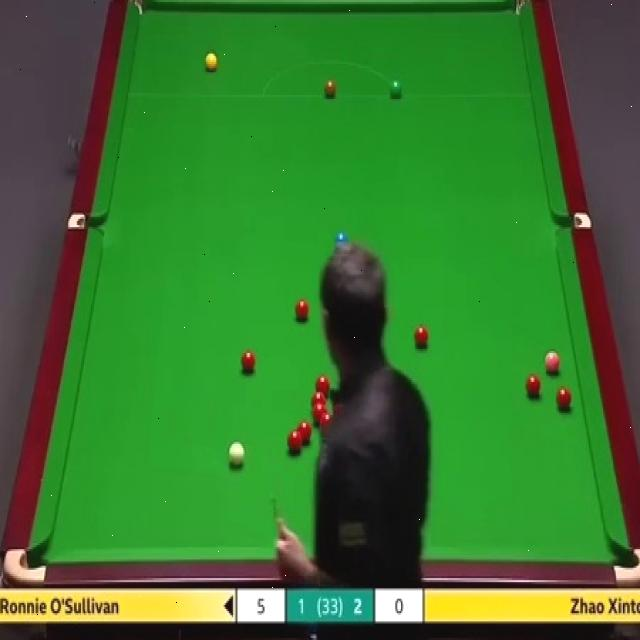blue-ball: (335, 231, 348, 253)
brown-ball: (323, 79, 336, 99)
green-ball: (388, 79, 404, 99)
pink-ball: (543, 350, 562, 374)
red-ball: (555, 386, 572, 410), (240, 349, 256, 374), (526, 372, 541, 398), (294, 298, 310, 322), (287, 429, 303, 453), (413, 324, 429, 347), (315, 374, 330, 396), (298, 421, 313, 443), (313, 404, 327, 424), (310, 392, 326, 409)
white-ball: (228, 440, 245, 464)
yellow-ball: (204, 53, 217, 74)
